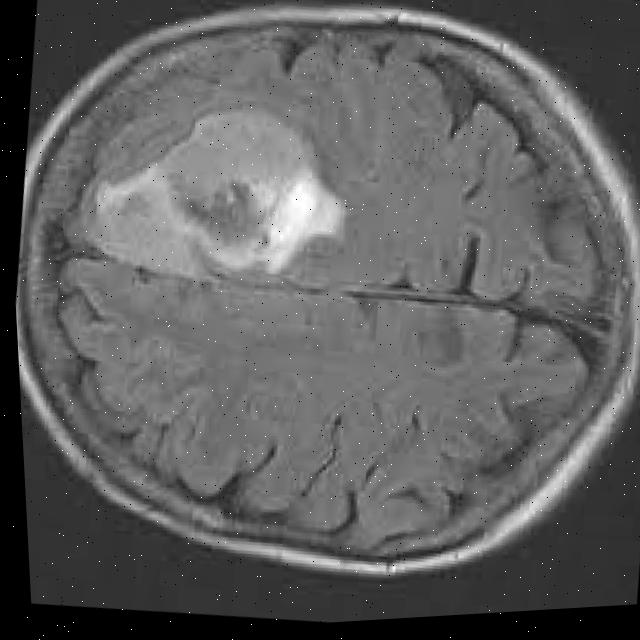Meningioma: (80, 88, 361, 303)
